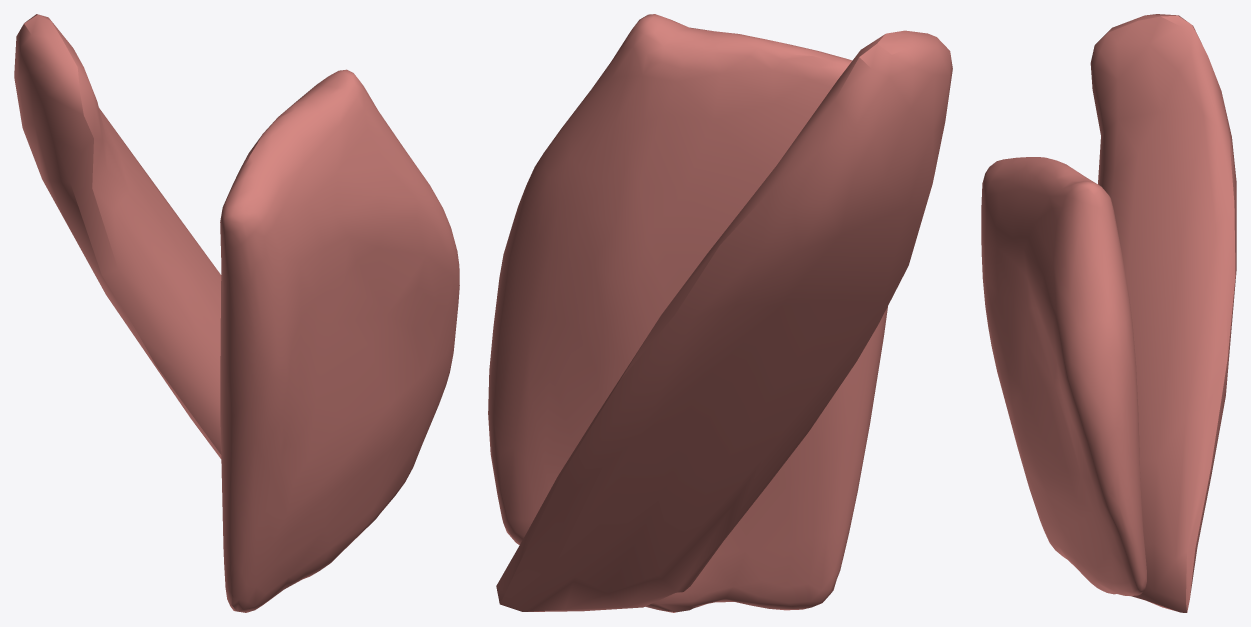
The model's file is fma81591_mm2383.glb.
3 views of the same model, side by side, from view 1: azimuth 30°, elevation 25°; view 2: azimuth 150°, elevation 25°; view 3: azimuth 270°, elevation 25° (orthographic). The views are drawn at different scales.
Visible parts, largest first — view 1: FMA81591_MM2383; view 2: FMA81591_MM2383; view 3: FMA81591_MM2383.
Part boxes in pixels (x1,y1,x2,y2): FMA81591_MM2383: (14, 14, 459, 612); FMA81591_MM2383: (488, 14, 952, 612); FMA81591_MM2383: (981, 14, 1236, 612).
Bounding box in the file's own units: 0.0201 × 0.0278 × 0.0133.
